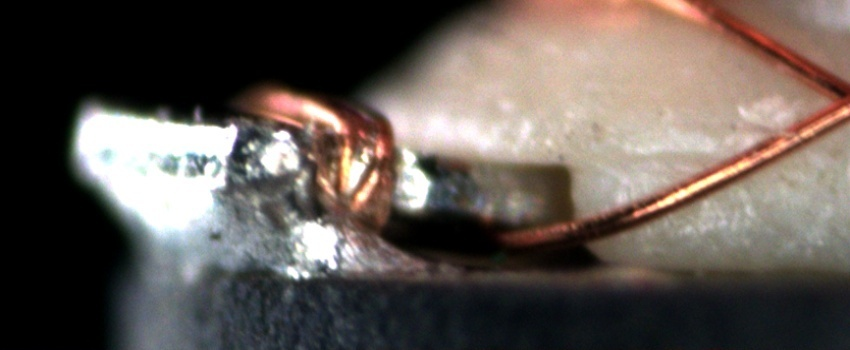CL: (807, 66, 850, 135)
DL: (600, 123, 749, 187)
TE: (228, 79, 398, 233)
